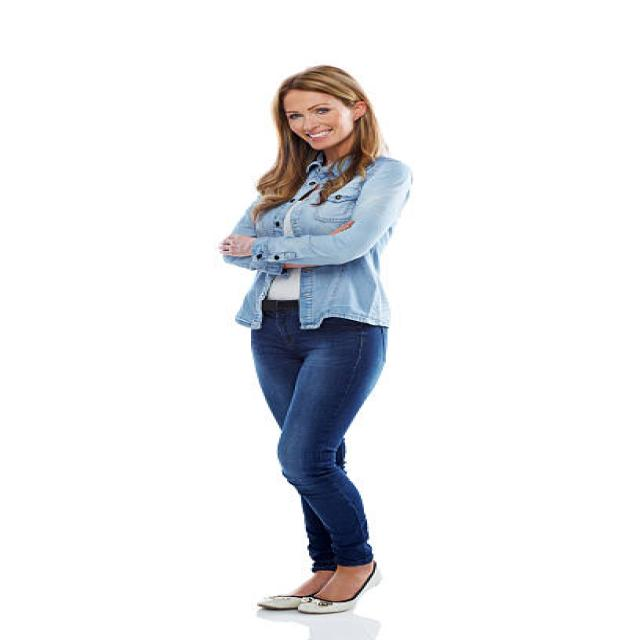Edited images: (196, 50, 462, 628)
